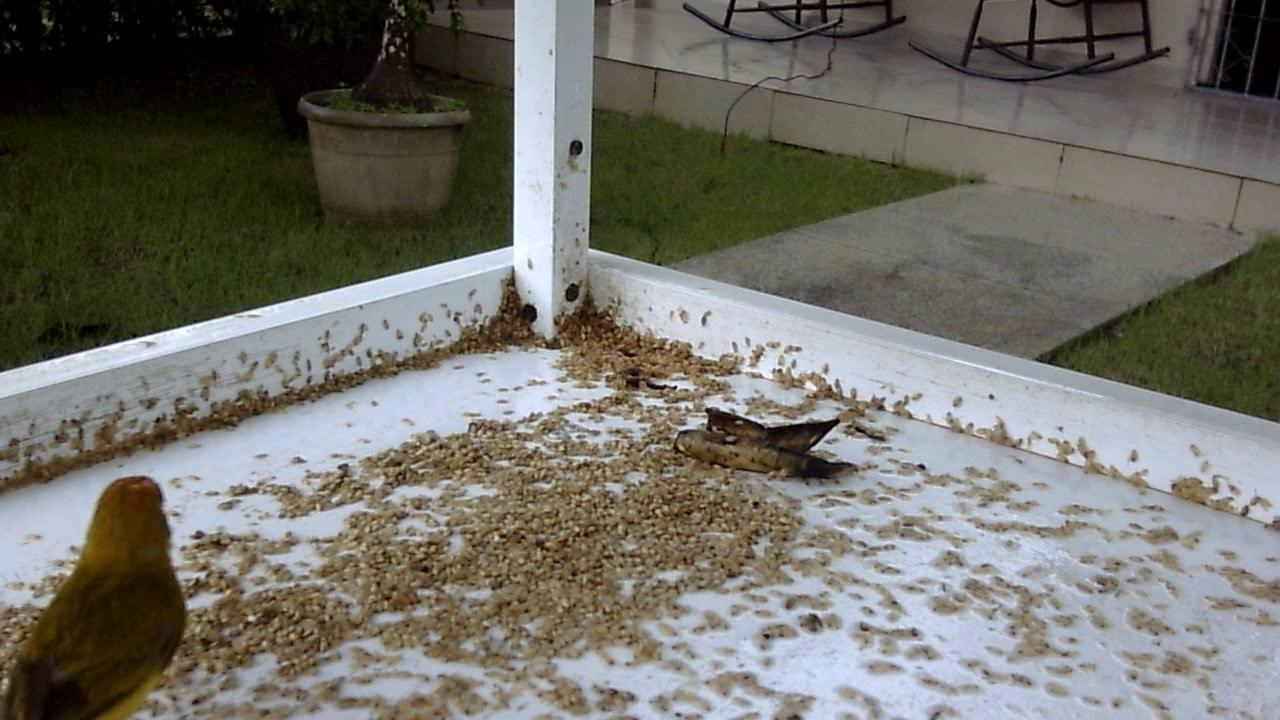canario_do_amazonas: (1, 471, 197, 718)
